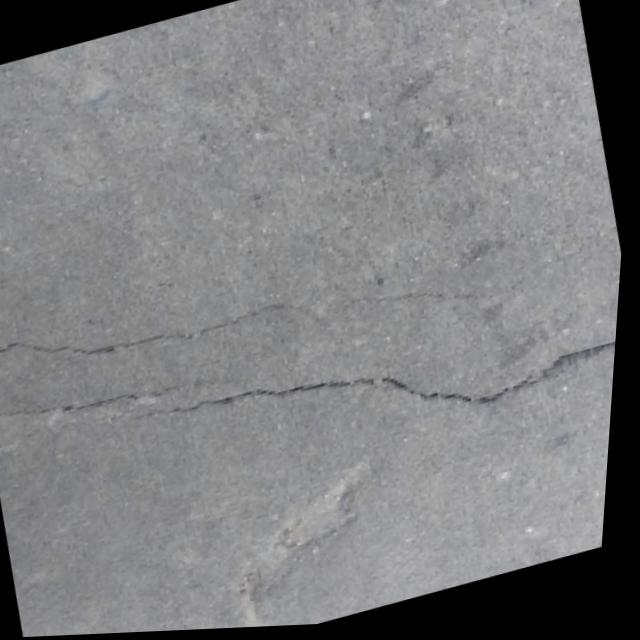Crack: (0, 164, 630, 546)
